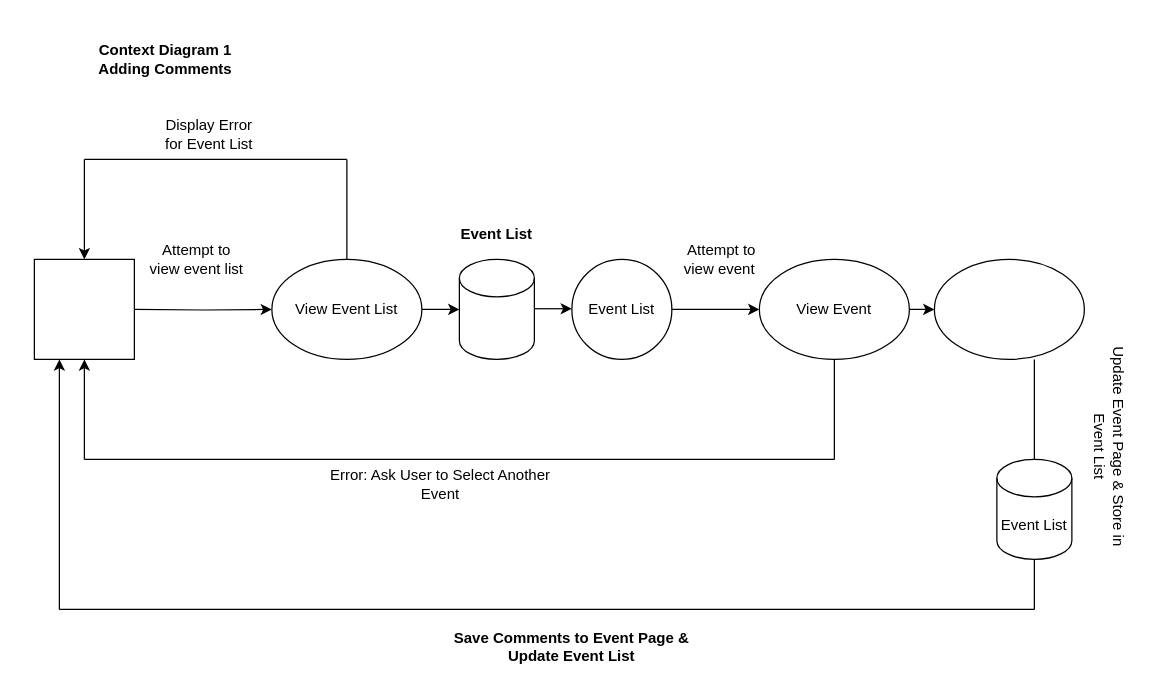
Image size: 1149x686. Some labels were removed from this diagram. Here are the shapes that lost their labels. From the top down, the box of each, then its label:
(33, 258, 134, 359): User
(933, 258, 1084, 359): Add Comments
